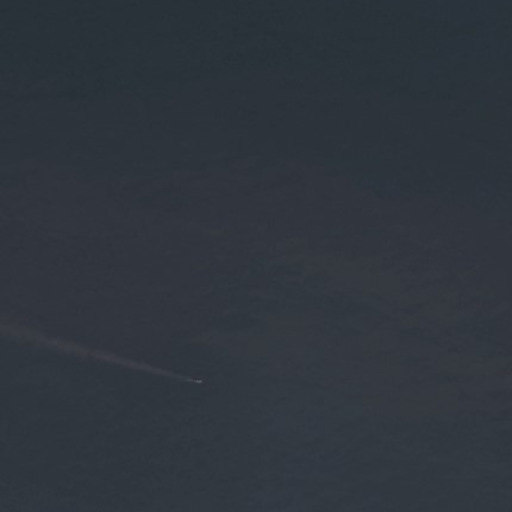ship: (193, 376, 206, 385)
